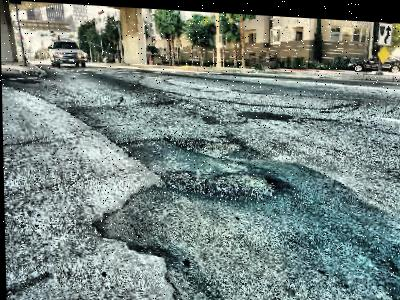pothole: (153, 162, 280, 202), (159, 130, 244, 156)
